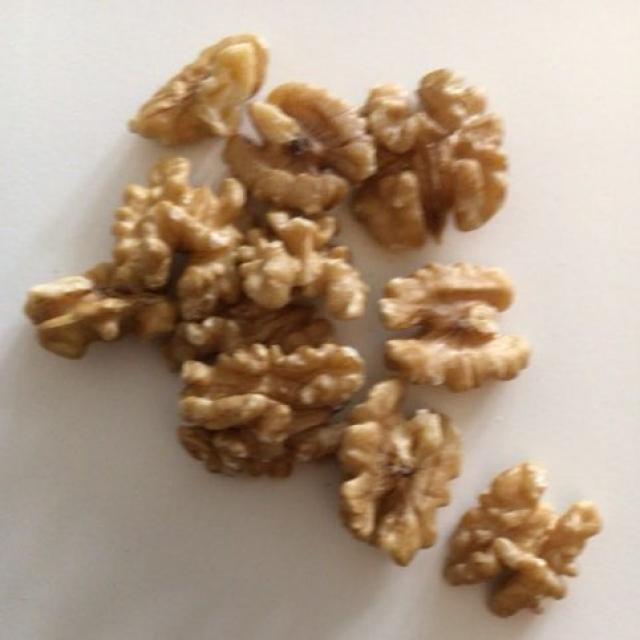walnut: (29, 61, 600, 598)
